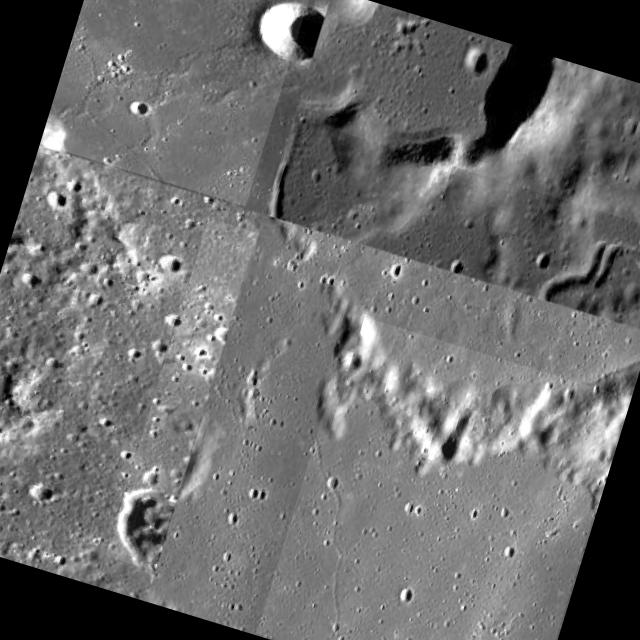rille: (255, 314, 629, 640), (264, 117, 640, 330), (39, 0, 309, 206), (105, 218, 257, 570)
